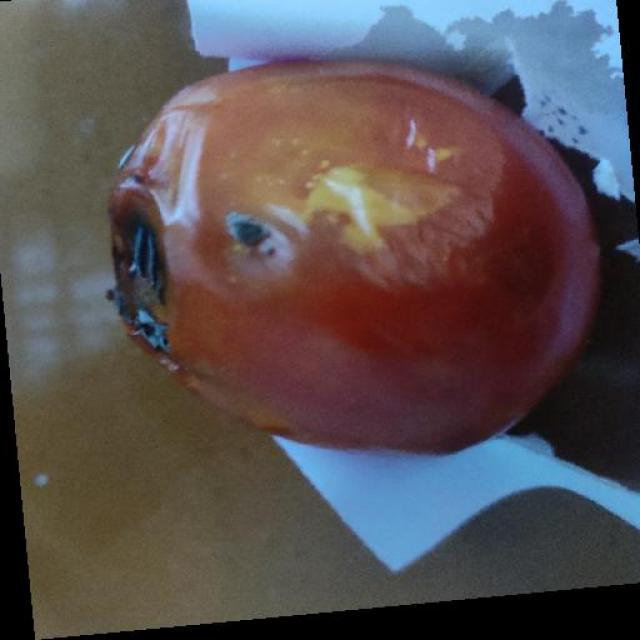Rotten Tomato: (85, 47, 606, 484)
